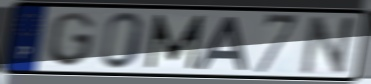0: (100, 10, 147, 71)
7: (253, 12, 302, 76)
A: (193, 15, 250, 72)
G: (45, 11, 96, 69)
M: (144, 13, 207, 71)
N: (297, 15, 362, 77)
